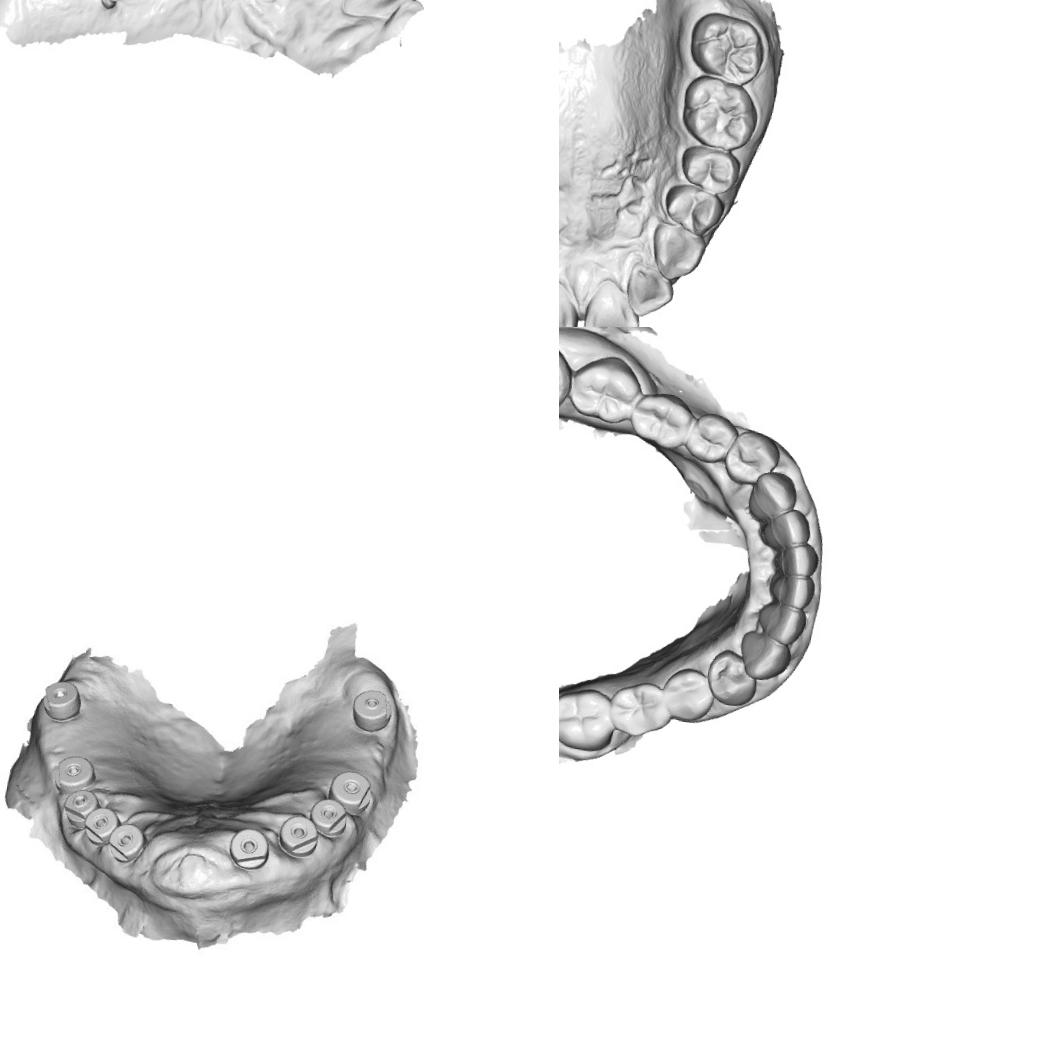canine: (646, 218, 710, 285), (744, 467, 801, 526), (735, 629, 794, 685)
implant: (325, 768, 375, 818), (348, 686, 396, 734), (275, 812, 321, 860), (51, 752, 99, 798), (226, 824, 272, 871), (40, 677, 84, 724), (60, 786, 103, 832), (81, 803, 124, 848), (106, 820, 148, 866), (306, 796, 350, 838)
incisor: (622, 260, 678, 322), (579, 275, 645, 327), (755, 505, 815, 557), (751, 602, 808, 647), (767, 538, 821, 582), (762, 570, 817, 612), (341, 0, 425, 25), (559, 275, 581, 327)
molar: (674, 72, 764, 156), (684, 7, 769, 89), (564, 350, 646, 427), (559, 681, 619, 756), (607, 676, 674, 742)
premolar: (629, 388, 695, 451), (701, 646, 762, 713), (720, 426, 784, 489), (660, 181, 728, 240), (676, 142, 744, 199), (660, 665, 718, 727), (684, 408, 736, 467)
